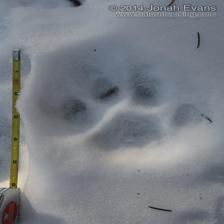puma: (44, 55, 201, 159)
